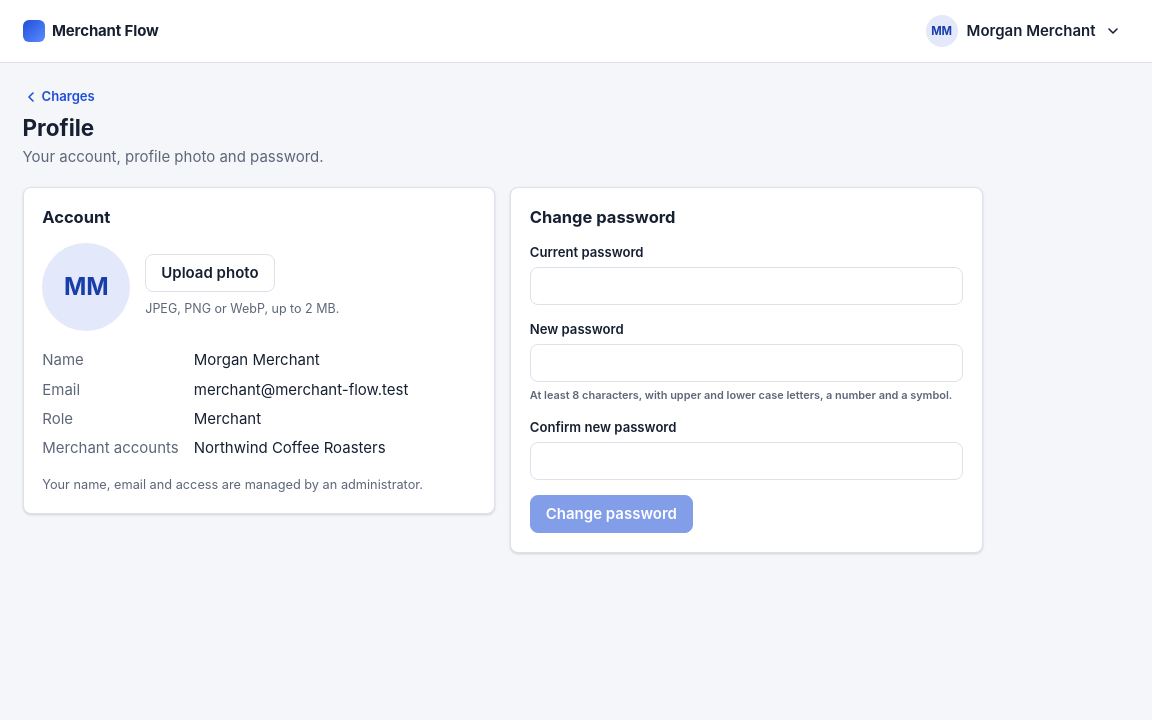
Test case: profile page › shows the field error for a wrong current password
The image size is (1152, 720).
Expected: the heading "Profile" is shown, [22, 114, 94, 141]
Type "wrong" into the password field labelled "Current password" at (746, 286), box [530, 267, 963, 305]
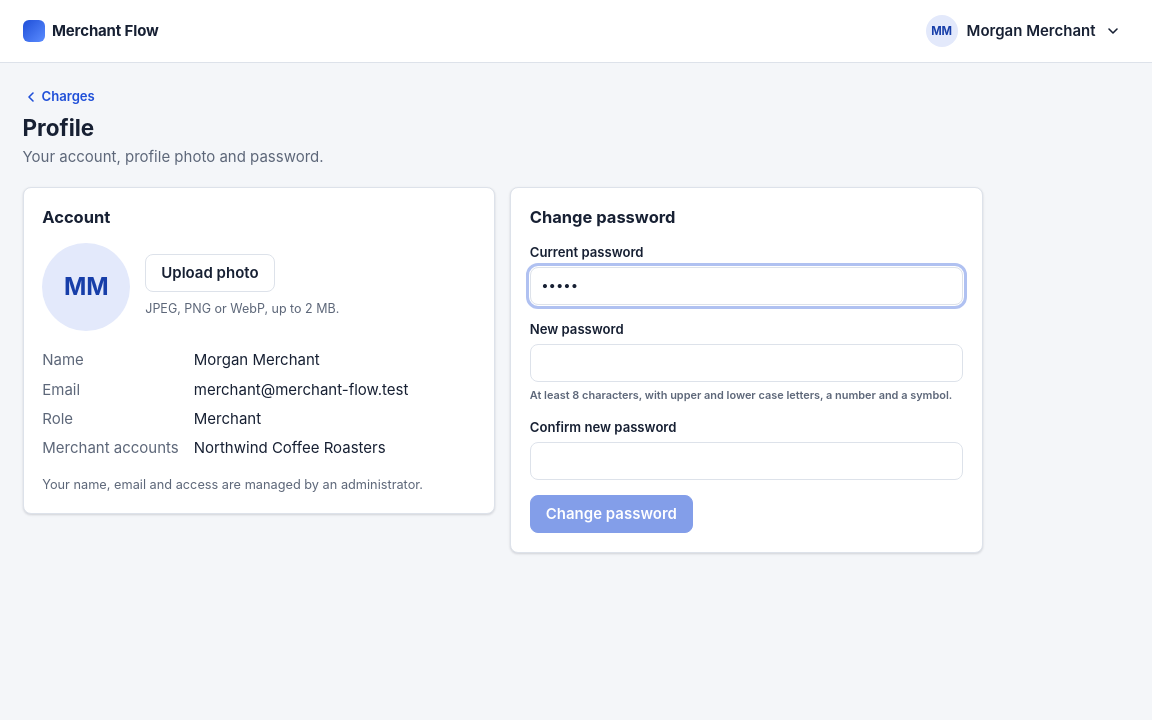
Type "New-Passw0rd!" into the password field labelled "New password" at (746, 363), box [530, 344, 963, 382]
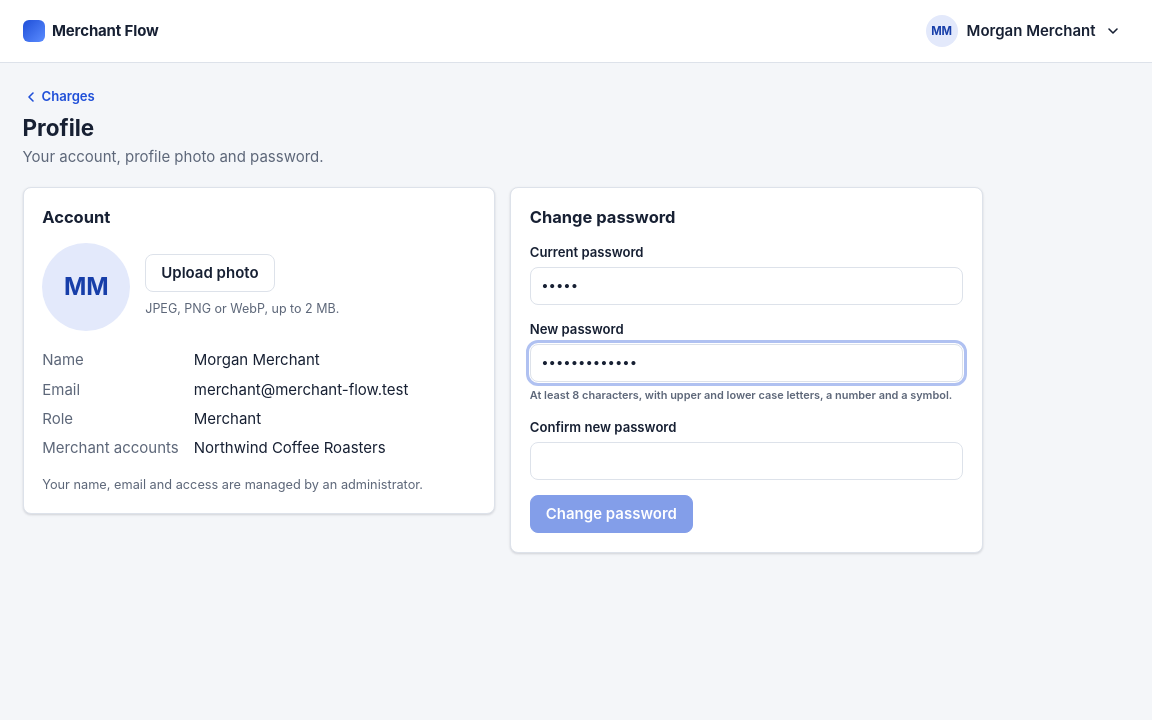
Type "New-Passw0rd!" into the password field labelled "Confirm new password" at (746, 461), box [530, 442, 963, 480]
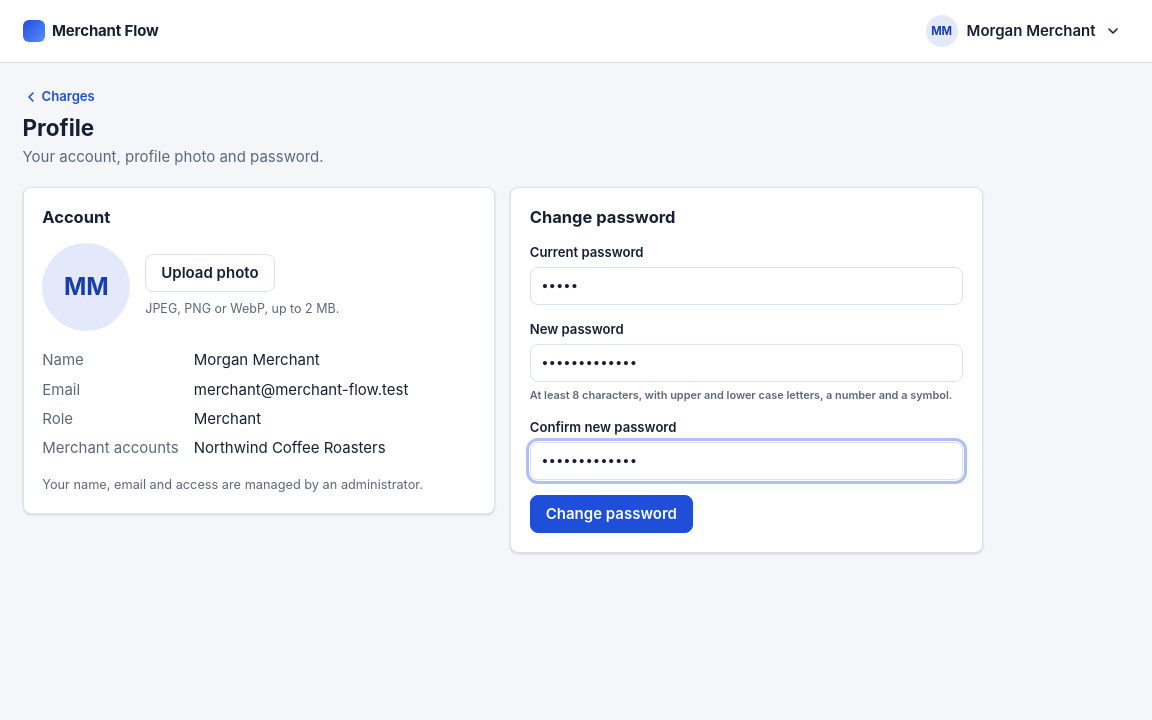
Click the button "Change password" at (611, 514), box [530, 495, 693, 533]
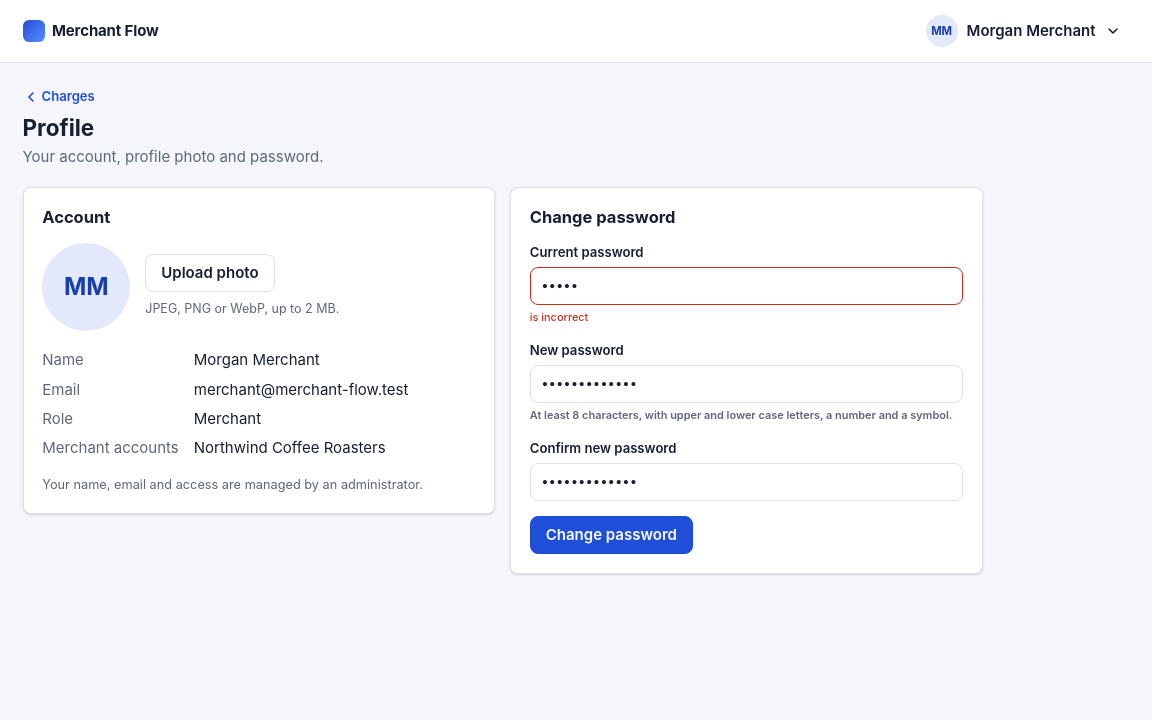
Expected: the text "is incorrect" is shown, [530, 310, 588, 324]
